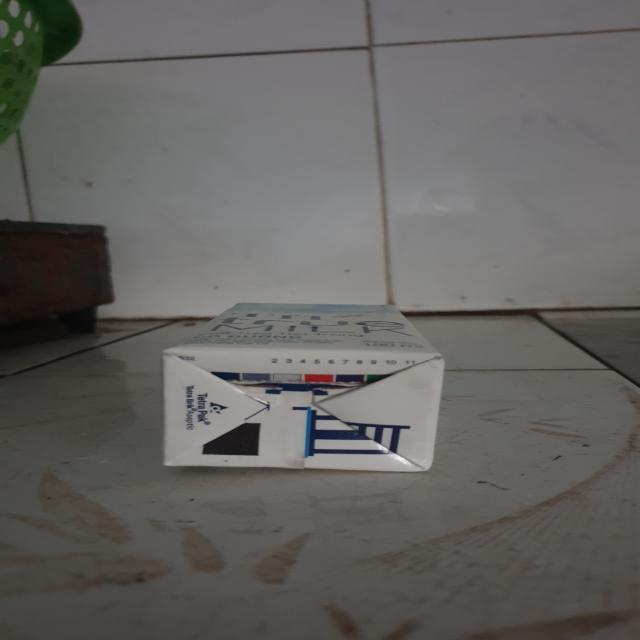TH: (163, 305, 445, 475)
